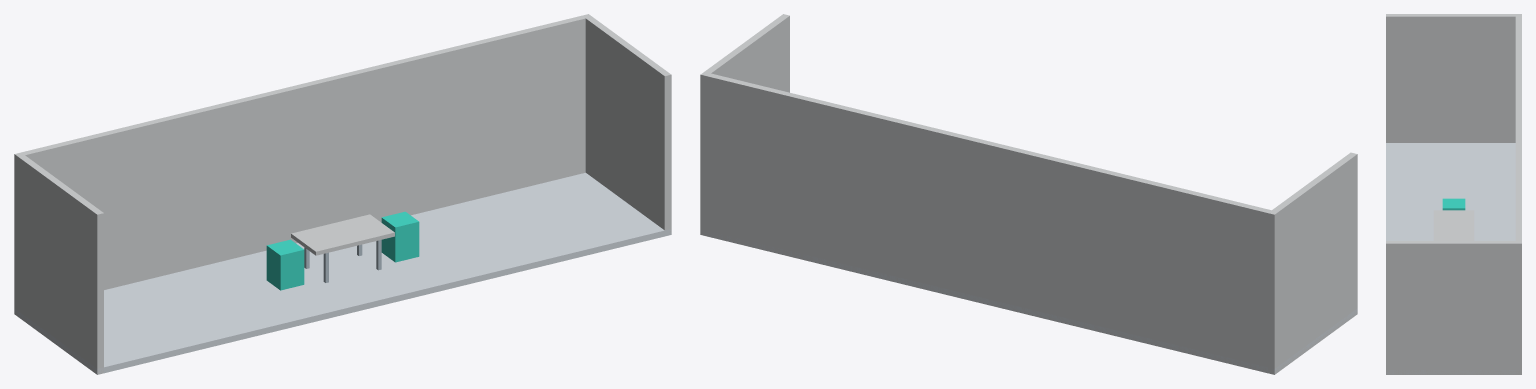
The picture shows the model from 3 angles, left to right: view 1: azimuth 30°, elevation 25°; view 2: azimuth 150°, elevation 25°; view 3: azimuth 270°, elevation 25°; orthographic projection. The views are drawn at different scales.
Visible parts, largest first — view 1: Exhibition Booth Concept; view 2: Exhibition Booth Concept; view 3: Exhibition Booth Concept.
Boxes of the visible parts, box(x1,y1,x2,y2) form: Exhibition Booth Concept: box(14, 14, 671, 374); Exhibition Booth Concept: box(700, 14, 1357, 374); Exhibition Booth Concept: box(1386, 14, 1521, 374).
Size of the model in its own units: 12 by 3.2 by 3.
